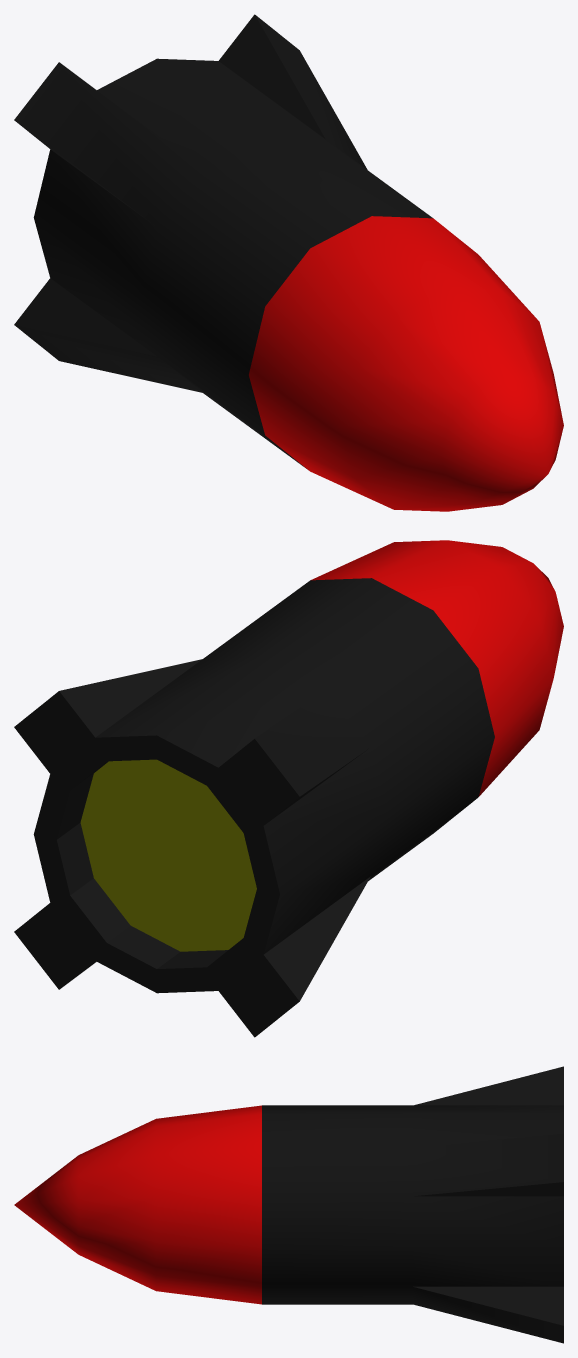
File: missile_low.fbx
3 views of the same model, one above another, from view 1: azimuth 30°, elevation 25°; view 2: azimuth 150°, elevation 25°; view 3: azimuth 270°, elevation 25° (orthographic). The views are drawn at different scales.
Parts seen in each view (by area): view 1: missile_low; view 2: missile_low; view 3: missile_low.
Part boxes in pixels (x1,y1,x2,y2): missile_low: (14, 14, 563, 511); missile_low: (14, 540, 563, 1037); missile_low: (14, 1066, 563, 1343).
Bounding box in the file's own units: 15.83 × 15.83 × 37.55.
